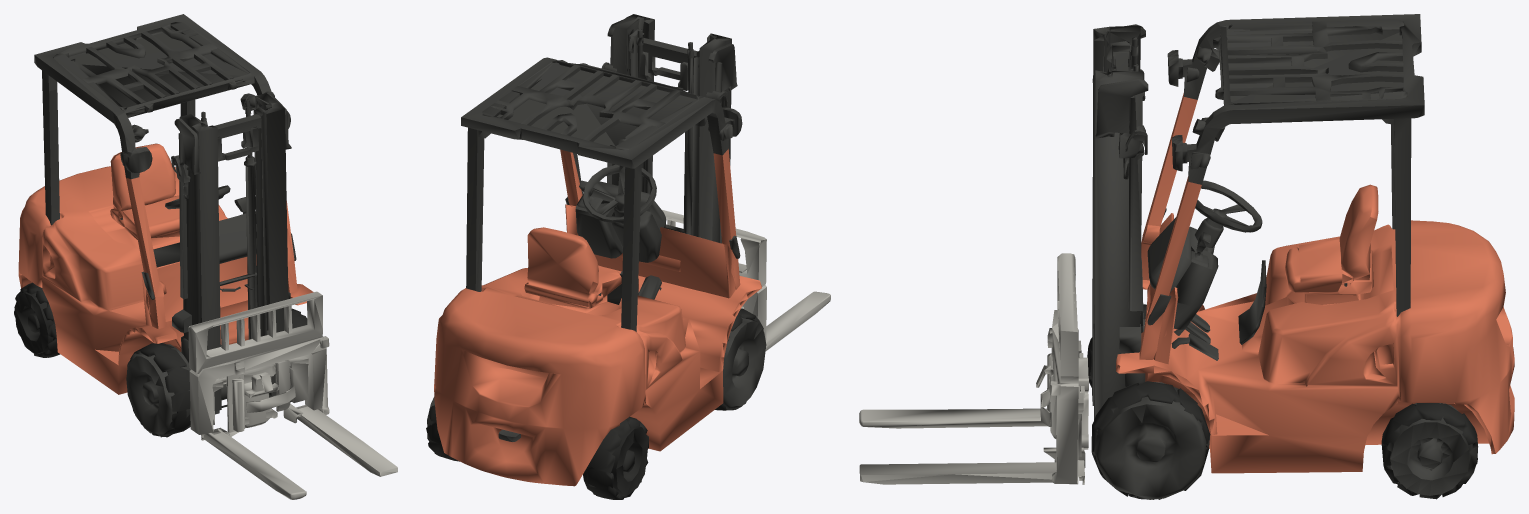
The model's file is forklift.glb.
The picture shows the model from 3 angles, left to right: view 1: azimuth 30°, elevation 25°; view 2: azimuth 150°, elevation 25°; view 3: azimuth 270°, elevation 25°; orthographic projection. The views are drawn at different scales.
Parts seen in each view (by area): view 1: forklift_parts, lift, wheel_rear_left, wheel_front_left; view 2: forklift_parts, wheel_rear_left, lift, wheel_rear_right; view 3: forklift_parts, lift, wheel_rear_right, wheel_front_right.
Boxes of the visible parts, <box> form: forklift_parts: <box>18,14,313,434</box>; lift: <box>188,291,397,499</box>; wheel_rear_left: <box>14,282,60,357</box>; wheel_front_left: <box>127,343,190,437</box>; forklift_parts: <box>427,14,766,486</box>; wheel_rear_left: <box>583,416,648,499</box>; lift: <box>662,210,830,350</box>; wheel_rear_right: <box>426,405,459,461</box>; forklift_parts: <box>1090,14,1514,499</box>; lift: <box>859,253,1088,484</box>; wheel_rear_right: <box>1381,403,1478,499</box>; wheel_front_right: <box>1091,381,1210,499</box>.
Size of the model in its own units: 1.23 by 2.17 by 3.16.
